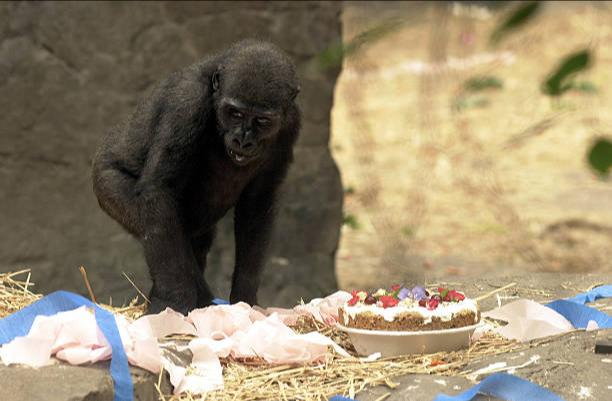gorille_Autres: (83, 39, 317, 302)
